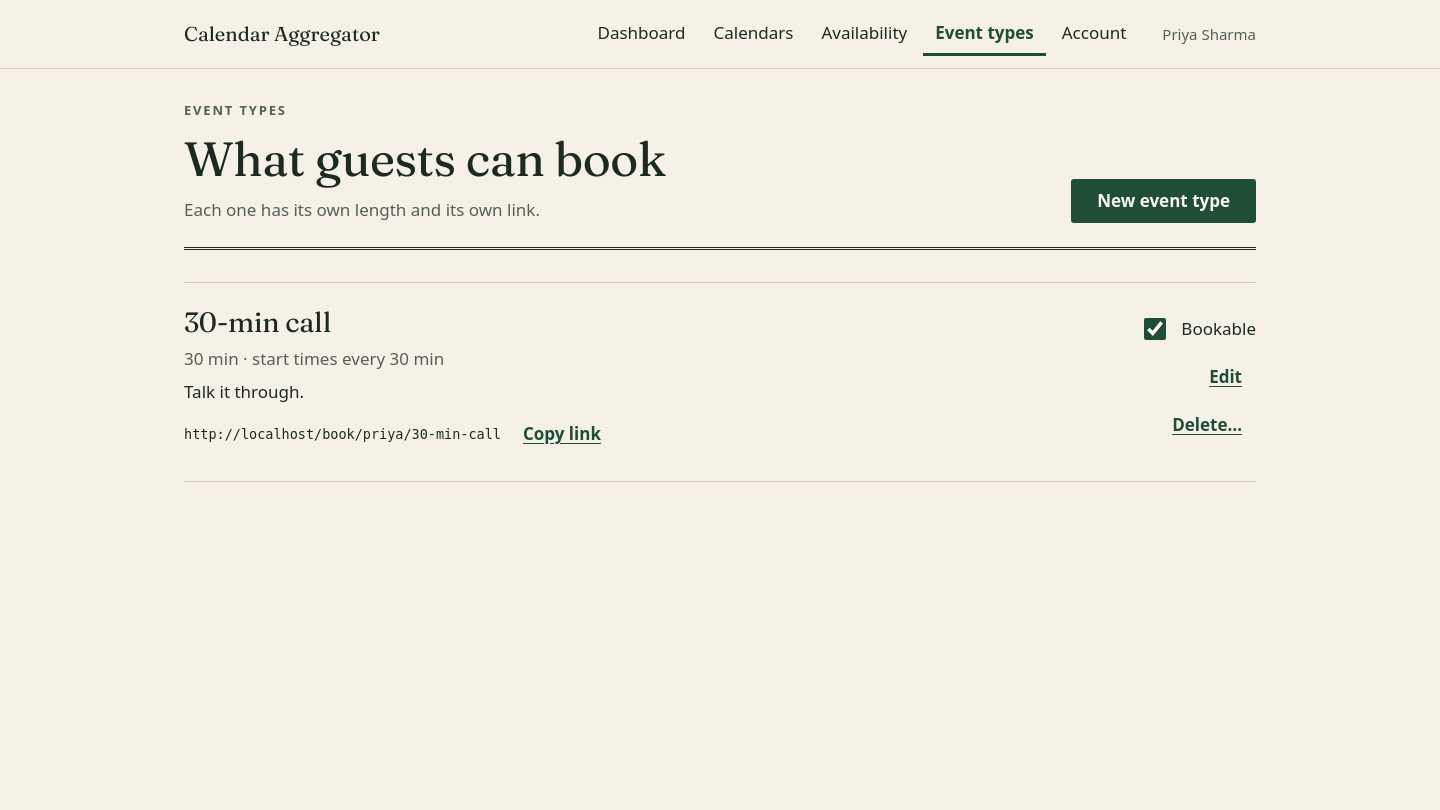
Test: the event types page › creates an event type, its link following the title
The image size is (1440, 810).
Click the button "New event type". click: coordinates (1164, 201)
box: [1071, 179, 1256, 223]
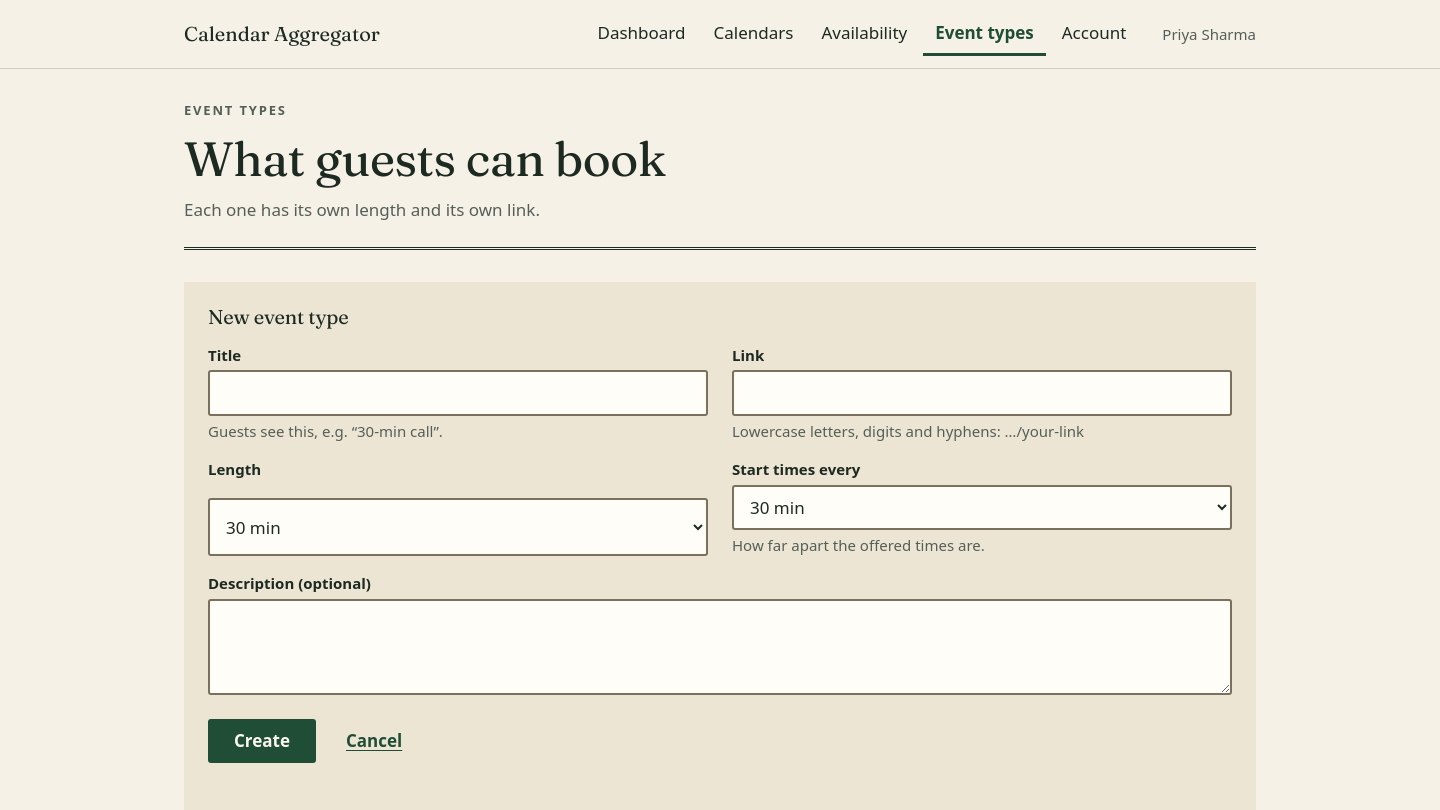
Type "Café chat!" into the field labelled "Title". click: coordinates (458, 393)
box: [208, 370, 708, 416]
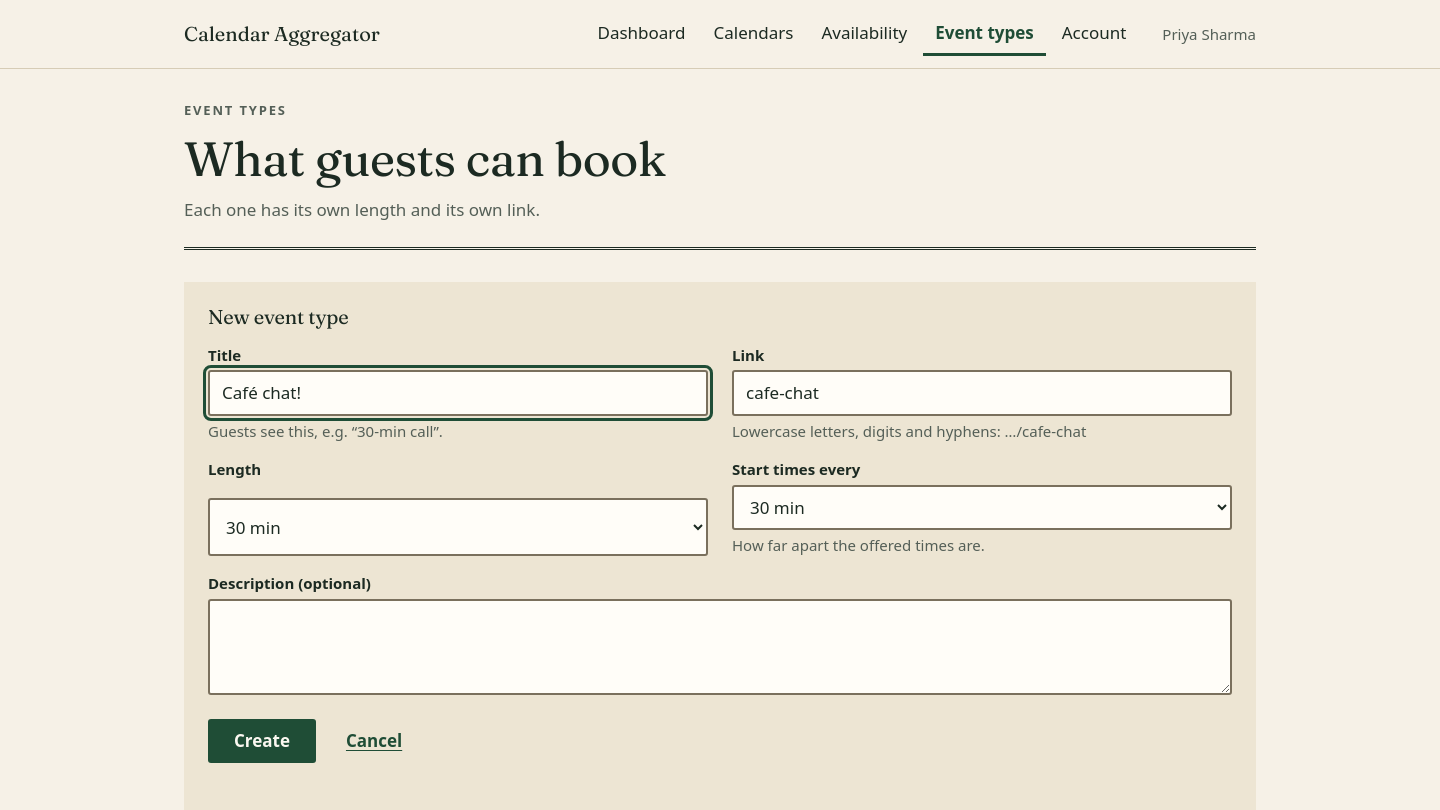
Check: the field labelled "Link" holds "cafe-chat", box [732, 370, 1232, 416]
Click the button "Create". click: coordinates (262, 741)
box: [208, 719, 316, 763]
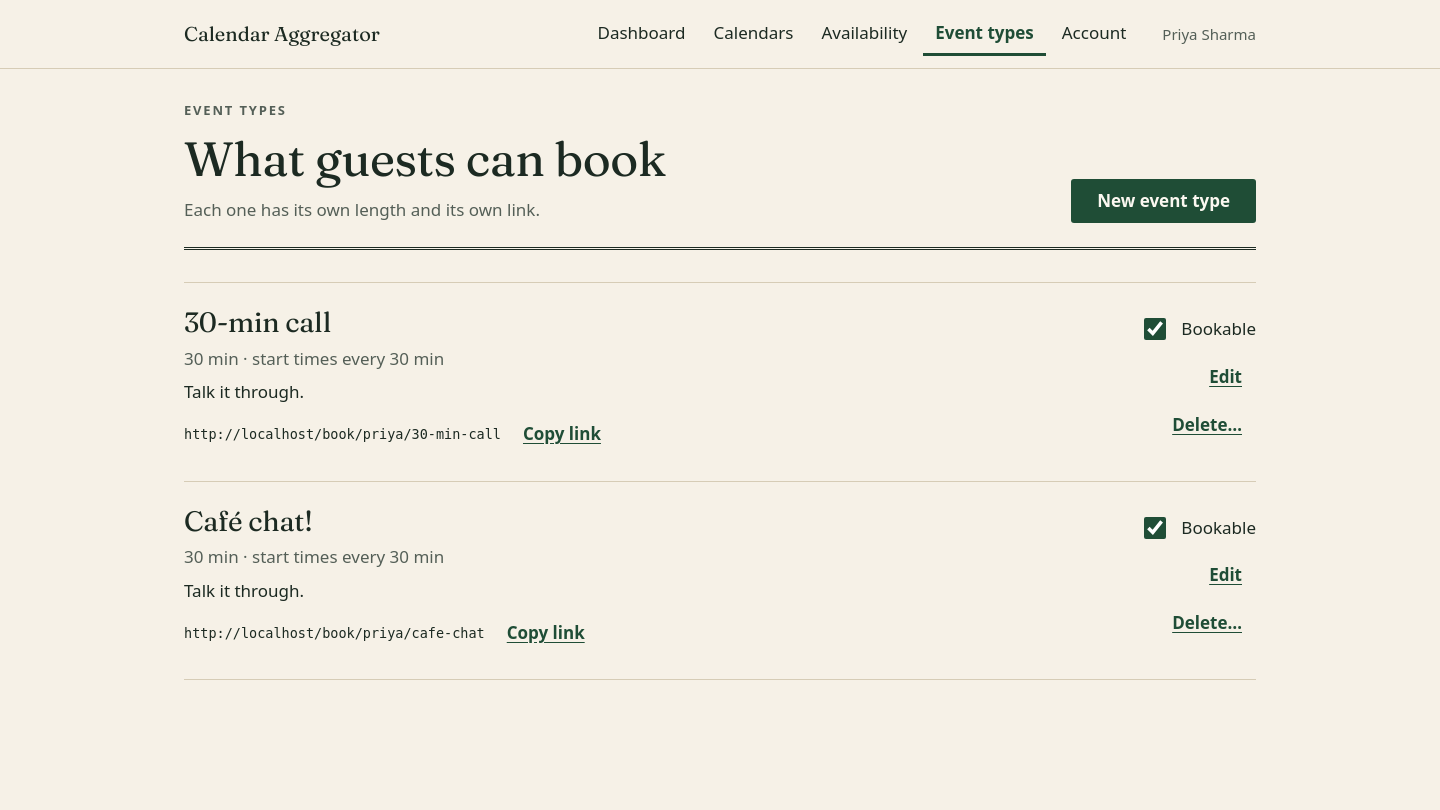
Check: the heading "Café chat!" is shown, box [184, 504, 313, 538]
